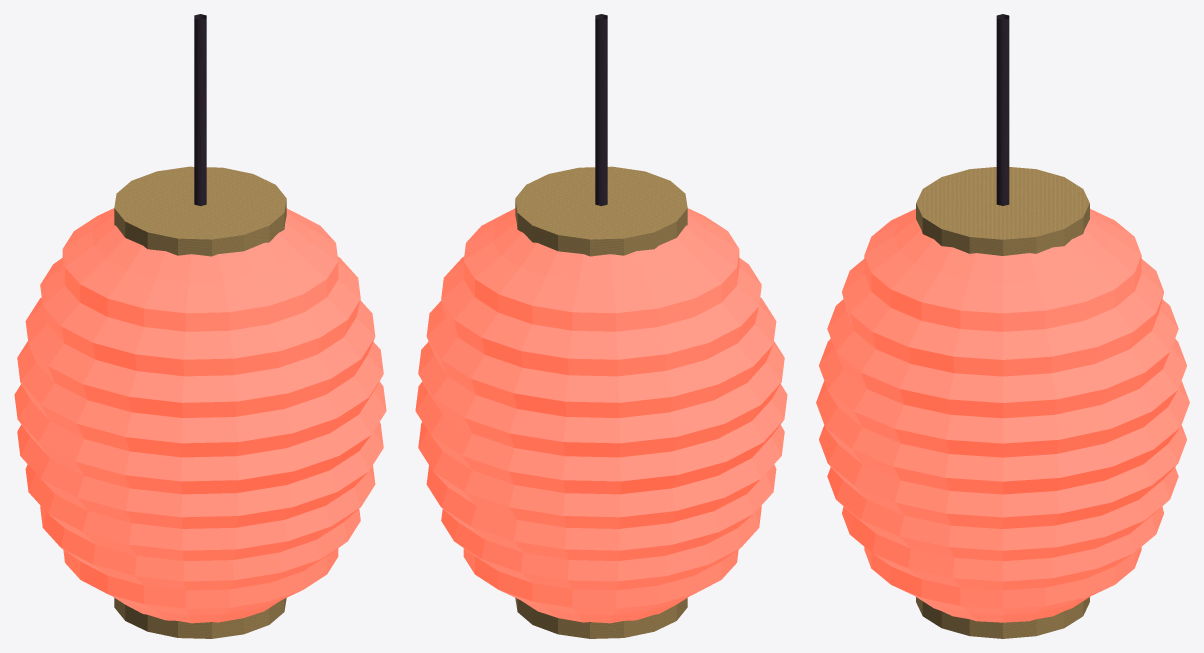
File: lantern.raw.glb
The picture shows the model from 3 angles, left to right: view 1: azimuth 30°, elevation 25°; view 2: azimuth 150°, elevation 25°; view 3: azimuth 270°, elevation 25°; orthographic projection.
Parts seen in each view (by area): view 1: lantern; view 2: lantern; view 3: lantern.
Part boxes in pixels (x1=…): lantern: x1=14, y1=14, x2=386, y2=638; lantern: x1=415, y1=14, x2=787, y2=638; lantern: x1=816, y1=14, x2=1189, y2=638.
Bounding box in the file's own units: 0.624 × 1.08 × 0.624.
2 materials, 1 textured.
